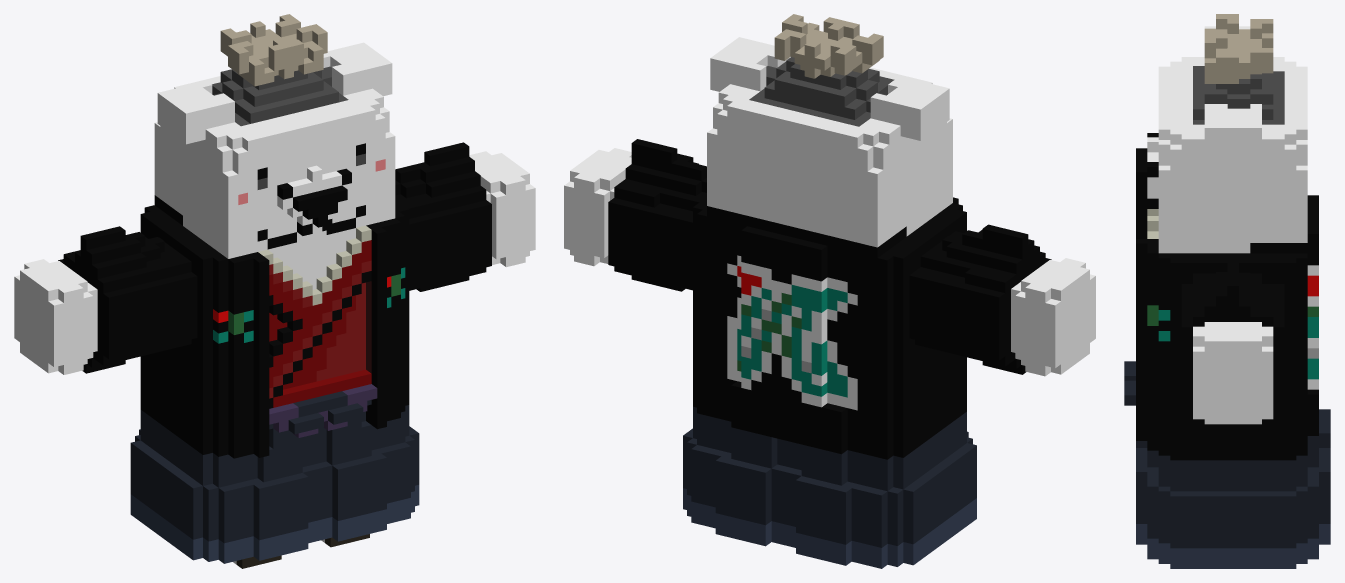
Rendered from sattun2.glb.
3 renders of one model, left to right at view 1: azimuth 30°, elevation 25°; view 2: azimuth 150°, elevation 25°; view 3: azimuth 270°, elevation 25°, orthographic. The views are drawn at different scales.
Parts seen in each view (by area): view 1: Untitled; view 2: Untitled; view 3: Untitled.
Boxes of the visible parts, box(x1,y1,x2,y2) form: Untitled: box(14, 14, 535, 568); Untitled: box(564, 14, 1095, 568); Untitled: box(1124, 14, 1330, 568).
Size of the model in its own units: 4.9 by 4.8 by 1.8.
1 material, 1 textured.
